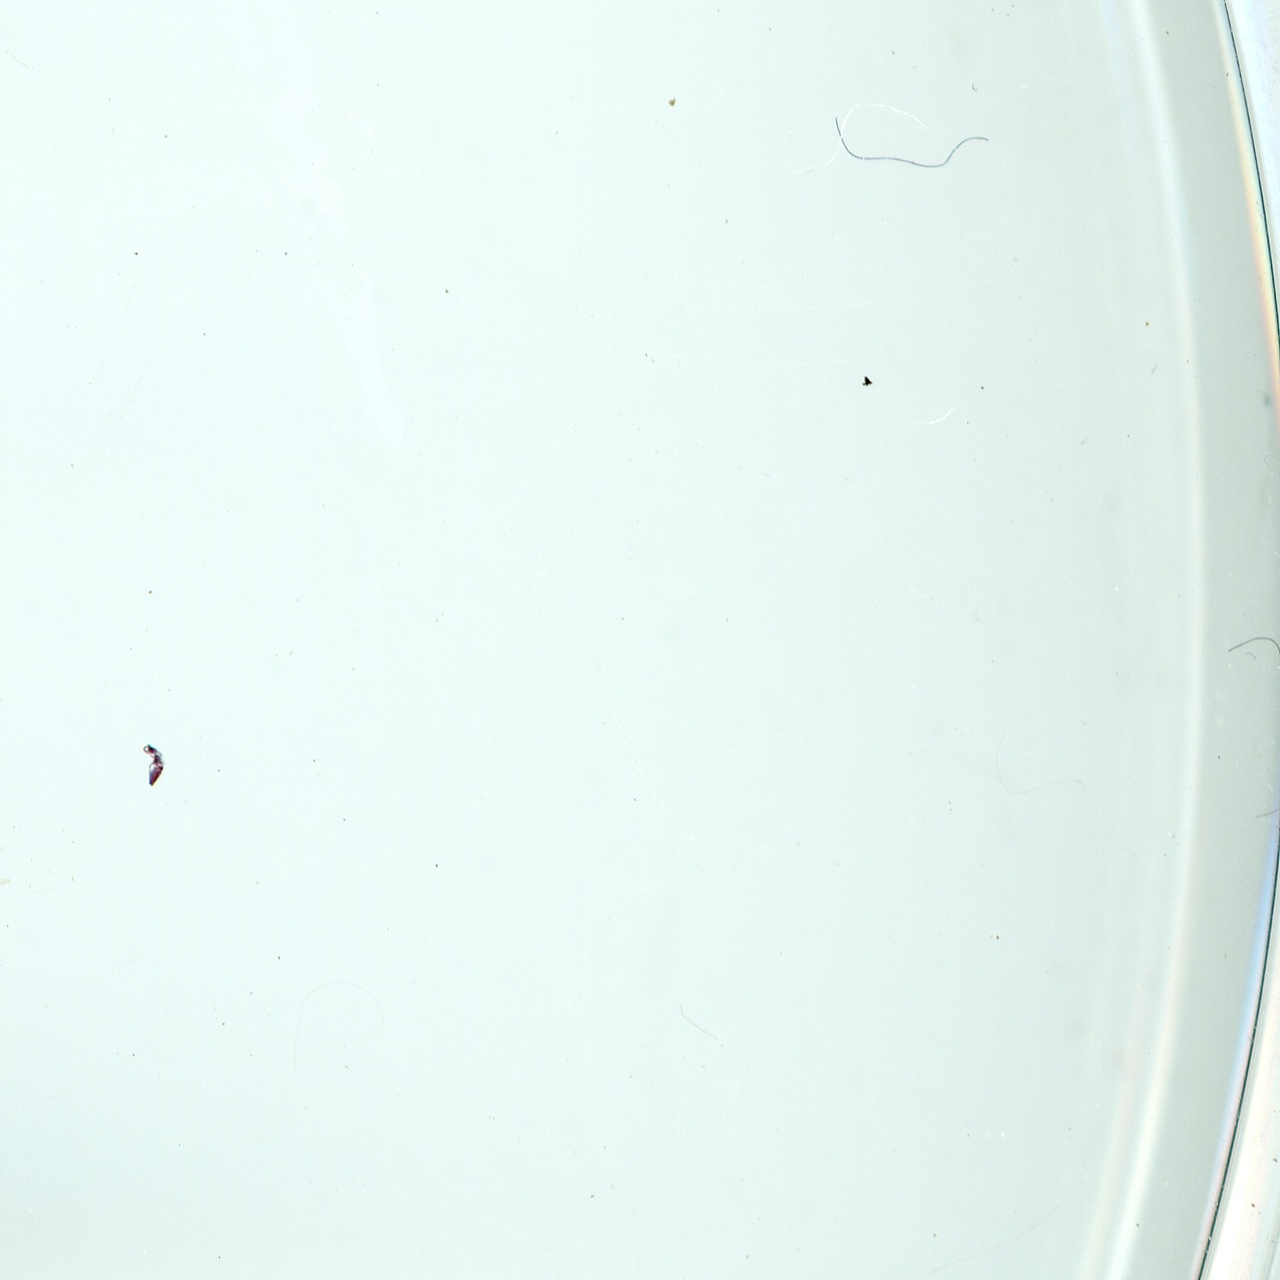arthropod: (138, 740, 168, 792)
